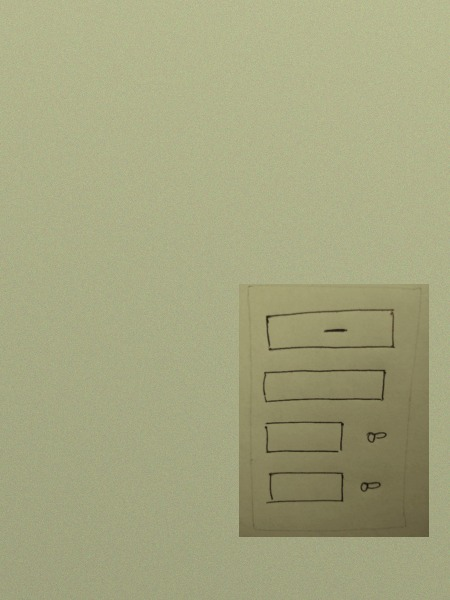button: (260, 304, 400, 356)
switch: (356, 475, 387, 500), (362, 426, 391, 448)
text_input: (258, 367, 389, 406), (260, 419, 349, 457), (263, 469, 349, 508)
